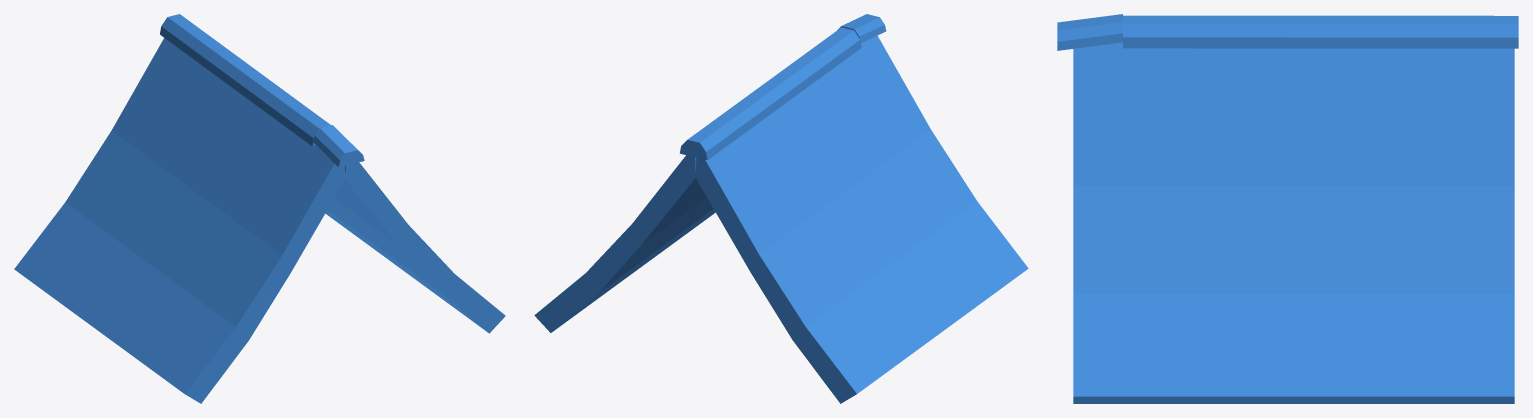
File: Collision_Roof_RoundTiles_6x6.fbx
3 renders of one model, left to right at view 1: azimuth 30°, elevation 25°; view 2: azimuth 150°, elevation 25°; view 3: azimuth 270°, elevation 25°, orthographic. The views are drawn at different scales.
Visible parts, largest first — view 1: UCX_Roof_RoundTiles_6x6_01; view 2: UCX_Roof_RoundTiles_6x6_01; view 3: UCX_Roof_RoundTiles_6x6_01.
Part boxes in pixels (bbox=[...]): UCX_Roof_RoundTiles_6x6_01: bbox=[14, 14, 505, 403]; UCX_Roof_RoundTiles_6x6_01: bbox=[534, 14, 1028, 403]; UCX_Roof_RoundTiles_6x6_01: bbox=[1057, 14, 1518, 403].
Bounding box in the file's own units: 832 × 565 × 801.
